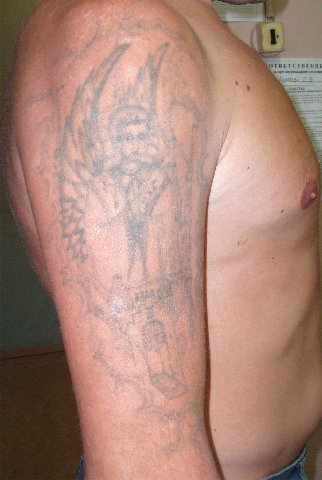tatu1_angel: (43, 34, 208, 301)
